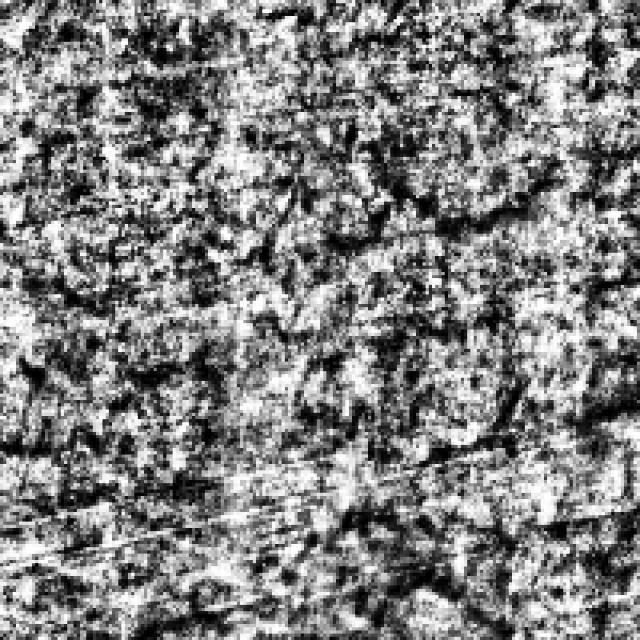Pitted_Surface: (227, 87, 602, 276), (0, 272, 218, 589), (272, 428, 608, 630)
